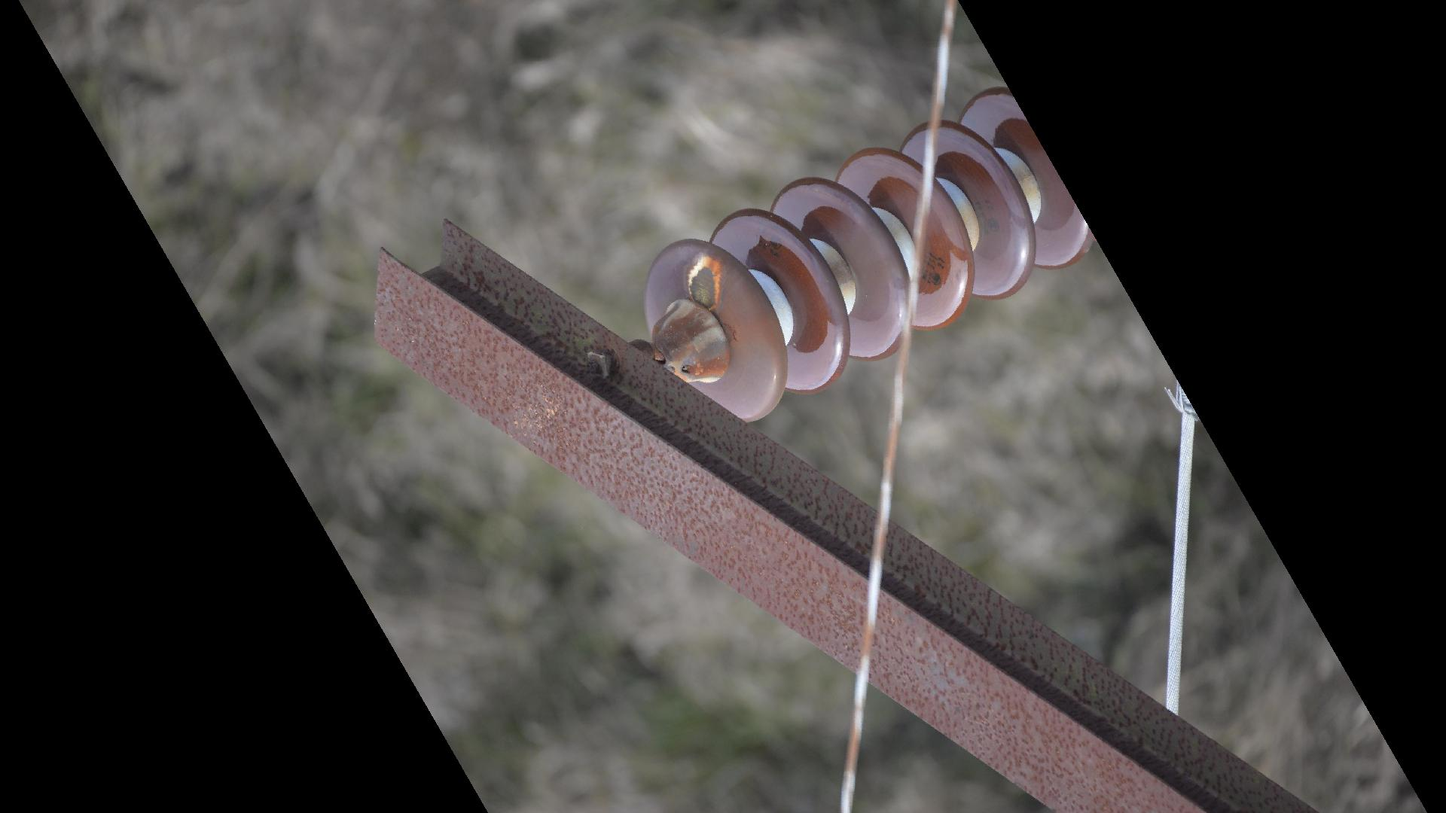insulator: (638, 83, 1095, 426)
insulator_flashover: (684, 252, 725, 311)
